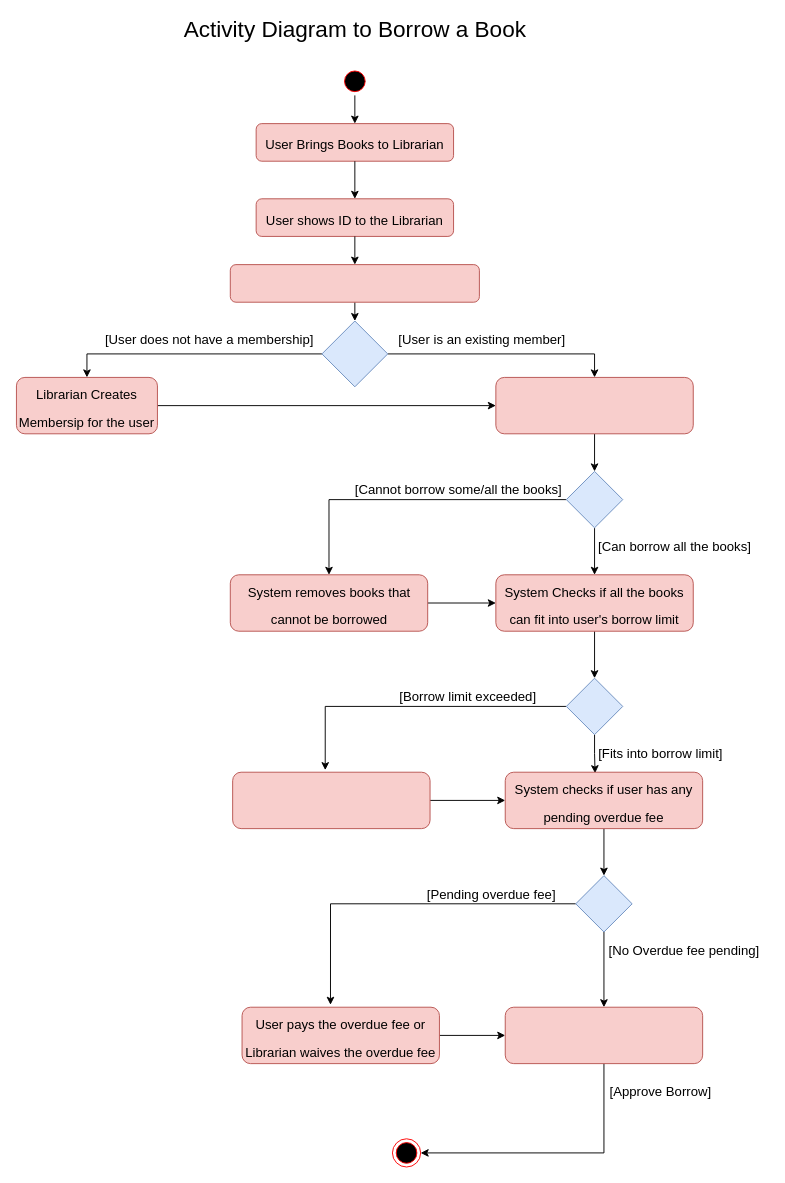
Some shapes in this 785 by 1183 pixel diagram are drawn without their labels. The centre of each missing label's shape, as x and y in pixels:
"Librarian checks if the user is a member" belongs at pixel 354 283.
"Proceed to checkout" belongs at pixel 603 1035.
"System Checks if User can borrow all the books" belongs at pixel 594 405.
"User removes few books" belongs at pixel 331 800.
